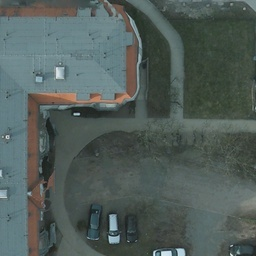car: (86, 205, 102, 240), (108, 212, 120, 244), (126, 214, 137, 247)
